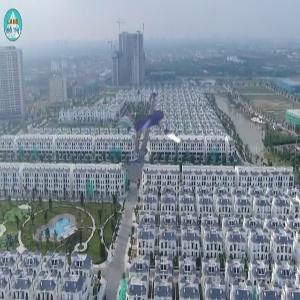drone: (110, 85, 200, 175)
